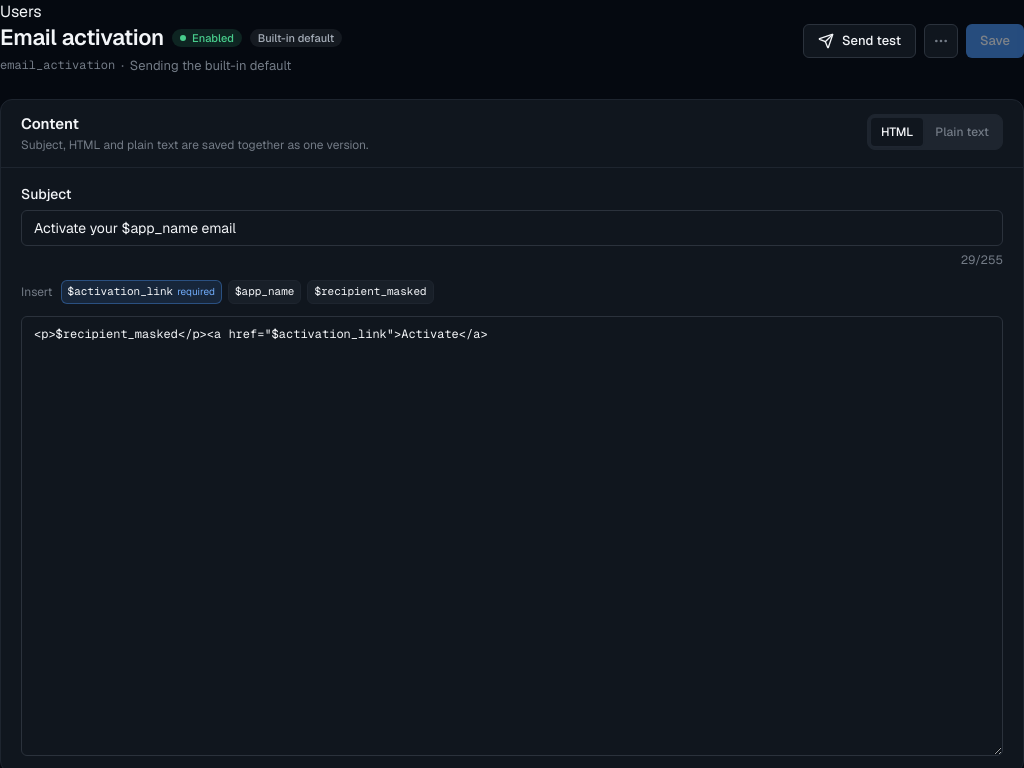
Test: EmailTemplateEditorPage › navigates freely while there are no unsaved changes
Click the link "Users" at (21,12), box [0,1,42,22]
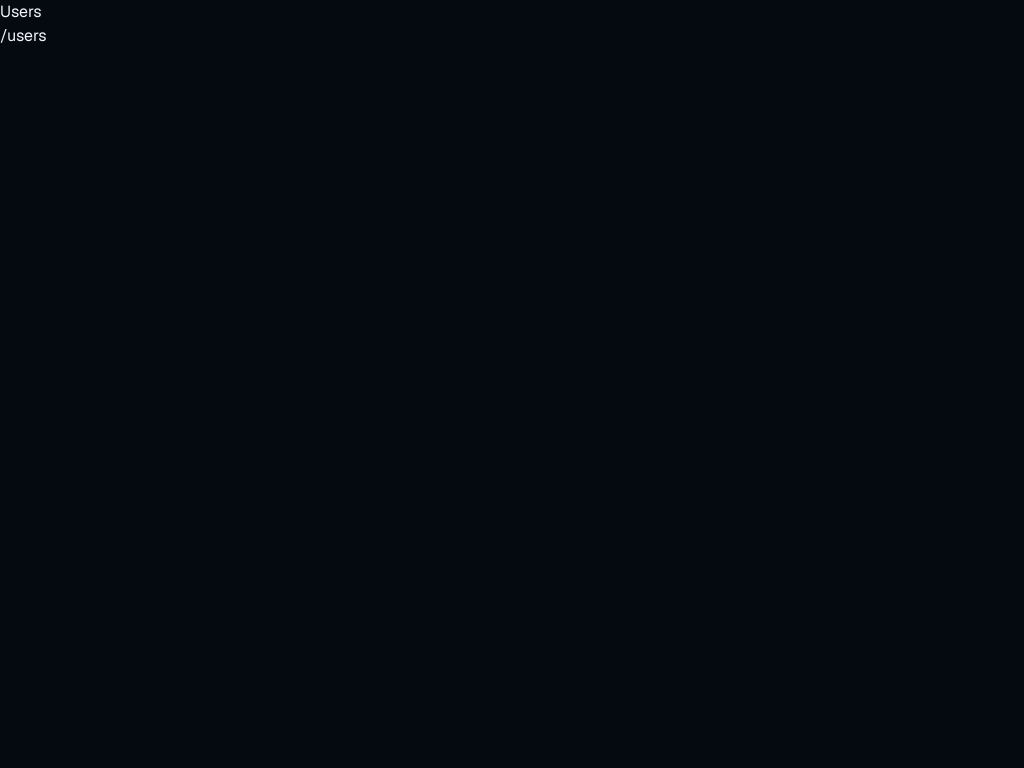
expect the text with test id "location" reads "/users": met, box [0,25,47,46]
